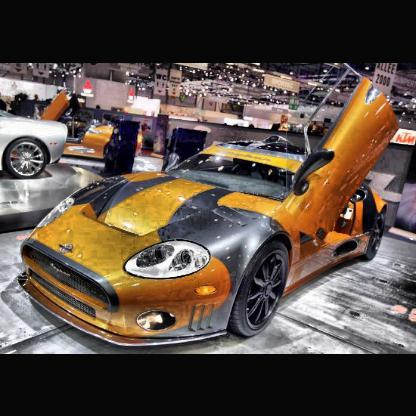Spyker C8 Convertible 2009: (17, 73, 411, 354)
